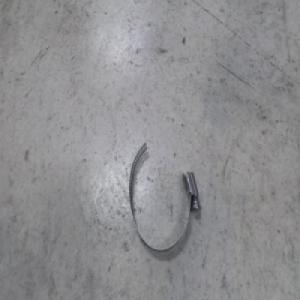AdjustableClamp: (128, 136, 201, 251)
